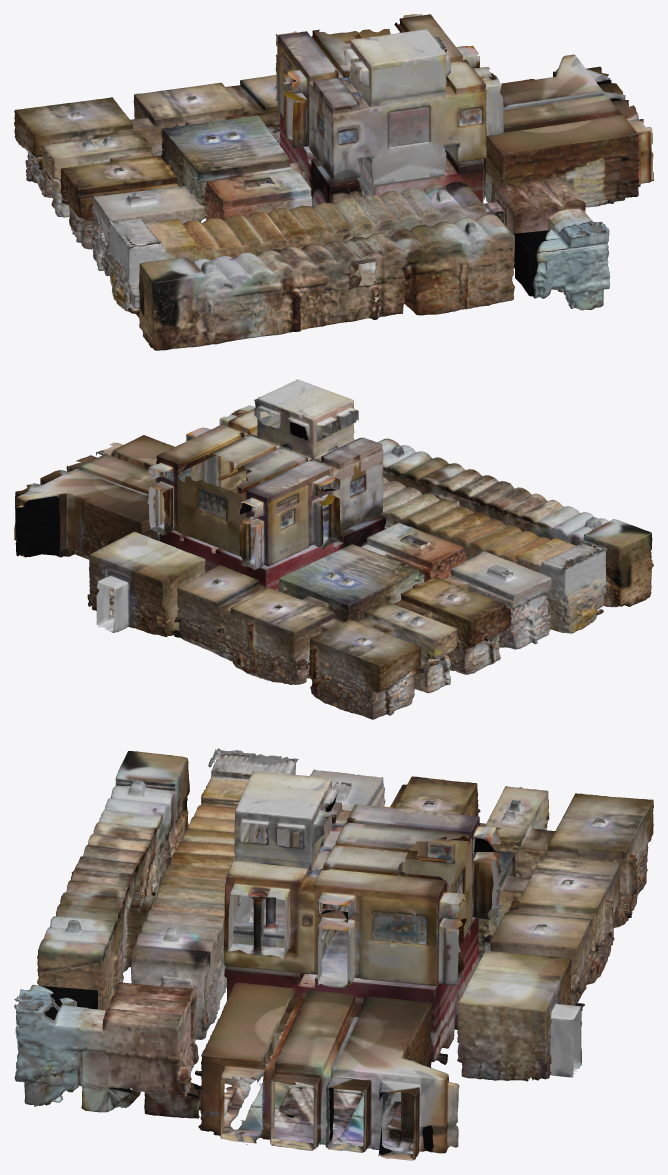
Rendered from knossos-throne-review.glb.
The picture shows the model from 3 angles, top to bottom: view 1: azimuth 30°, elevation 25°; view 2: azimuth 150°, elevation 25°; view 3: azimuth 270°, elevation 25°; orthographic projection. The views are drawn at different scales.
Size of the model in its own units: 23.93 by 8.41 by 19.16.
1 material, 1 textured.
